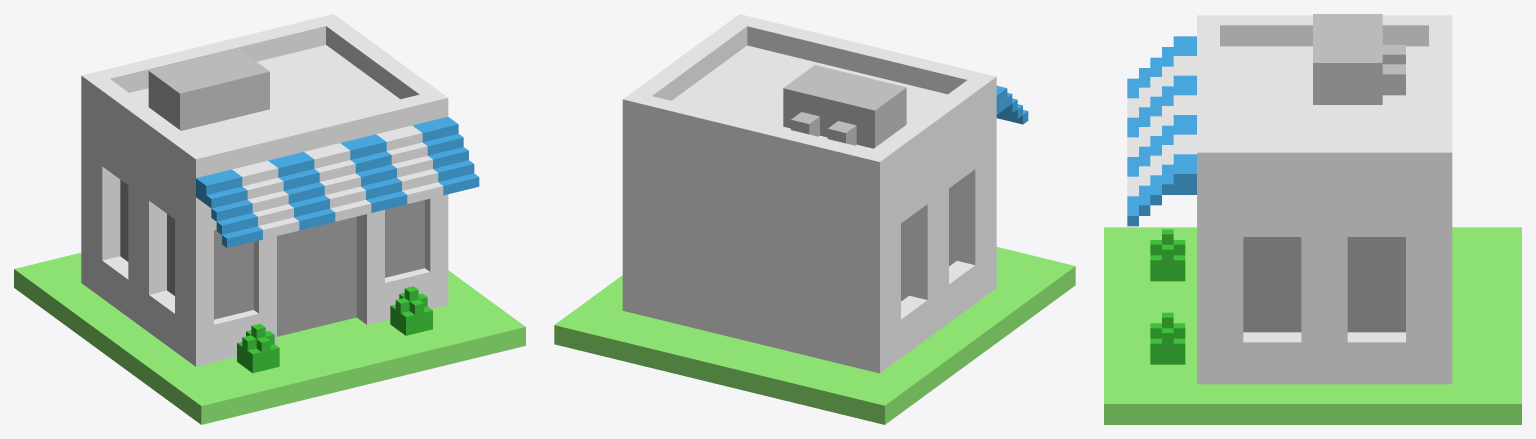
The model's file is shop 2.obj.
3 views of the same model, side by side, from view 1: azimuth 30°, elevation 25°; view 2: azimuth 150°, elevation 25°; view 3: azimuth 270°, elevation 25° (orthographic). The views are drawn at different scales.
Size of the model in its own units: 3.6 by 2.6 by 3.6.
Materials: 1 (1 with a texture image).
